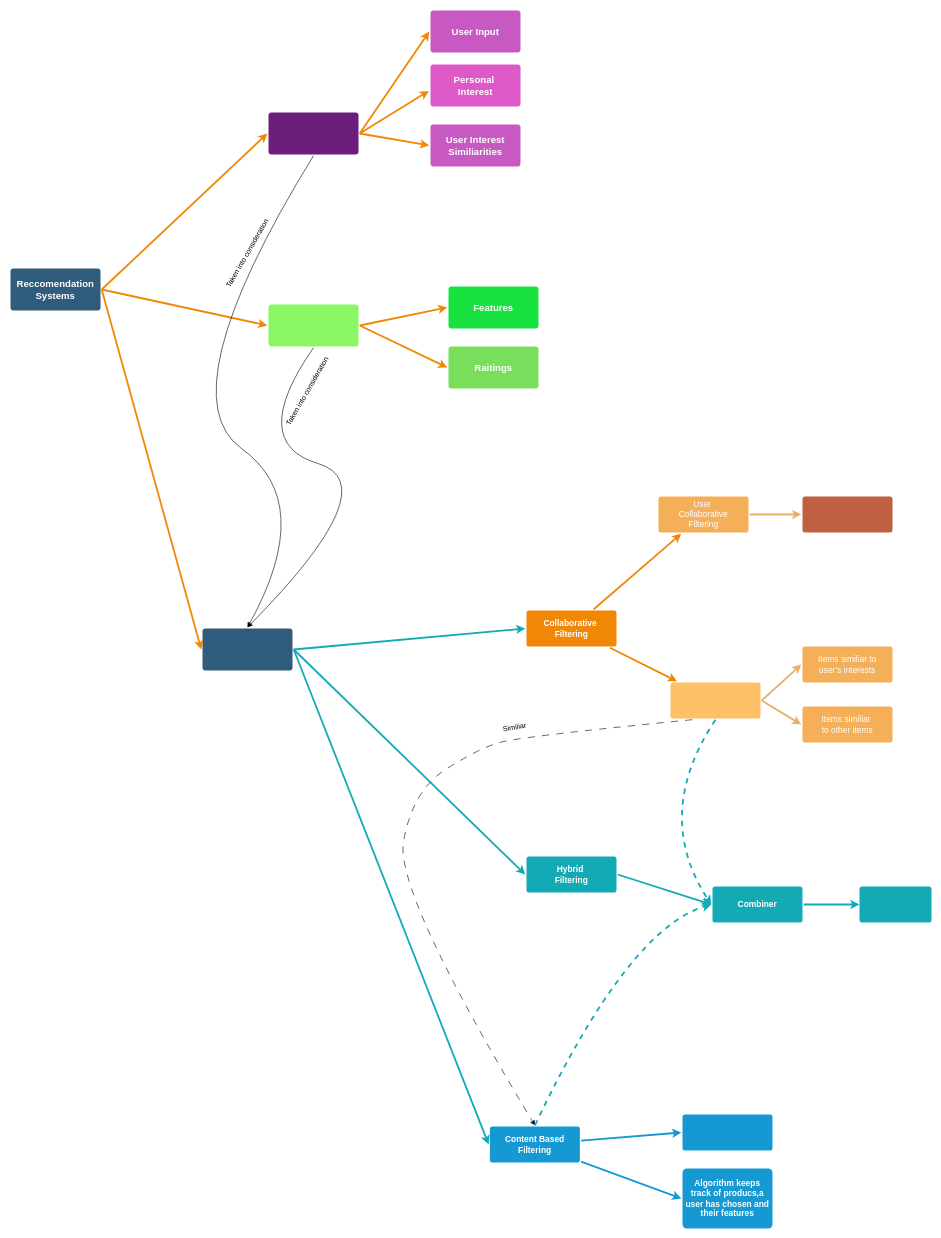
Image size: 941x1238. Some labels were removed from this diagram. Each missing label, with the centre of its shape:
Accurate output: point 895,904
Algorithm Approaches: point 247,649
Item Collaborative Filtering: point 715,700
Item profiles: point 313,325
Similiarities between Users and Users: point 847,514
User choses features they identify with: point 727,1132
User profiles: point 313,133
